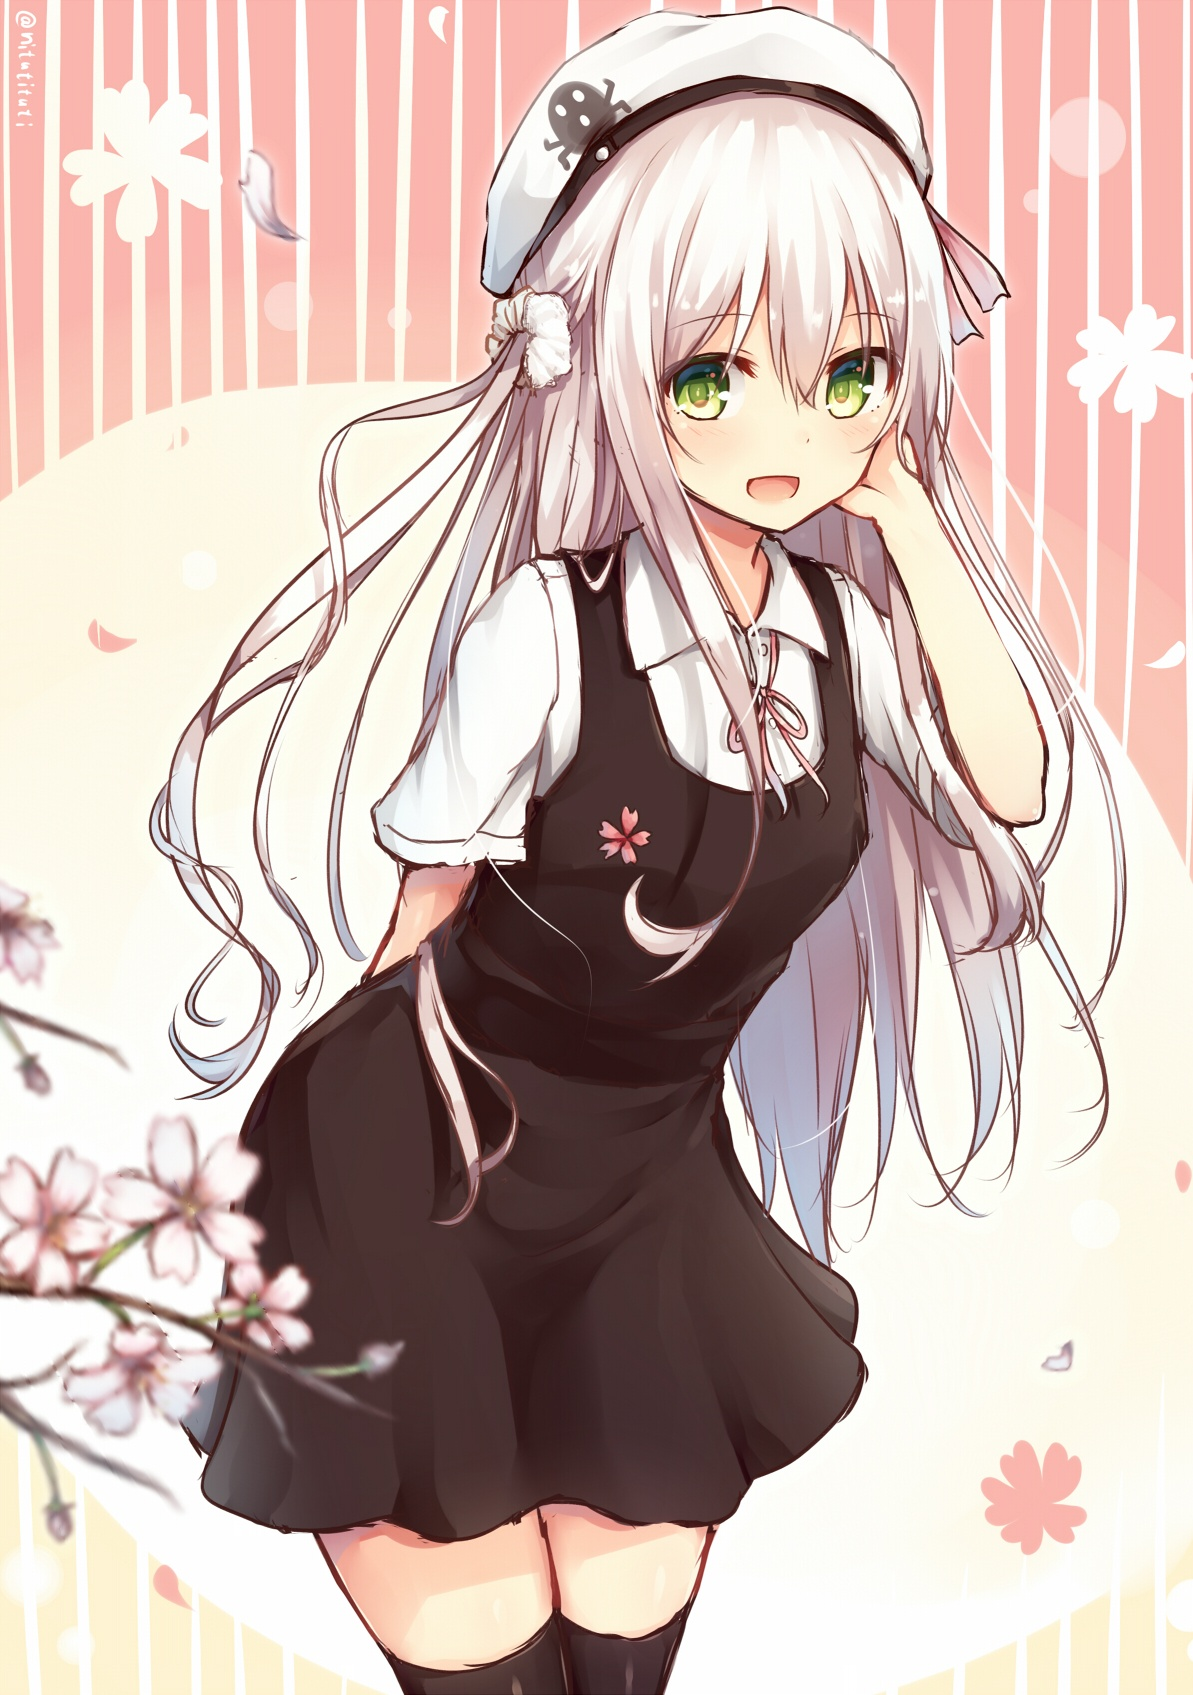纸片人正脸: (513, 27, 966, 571)
